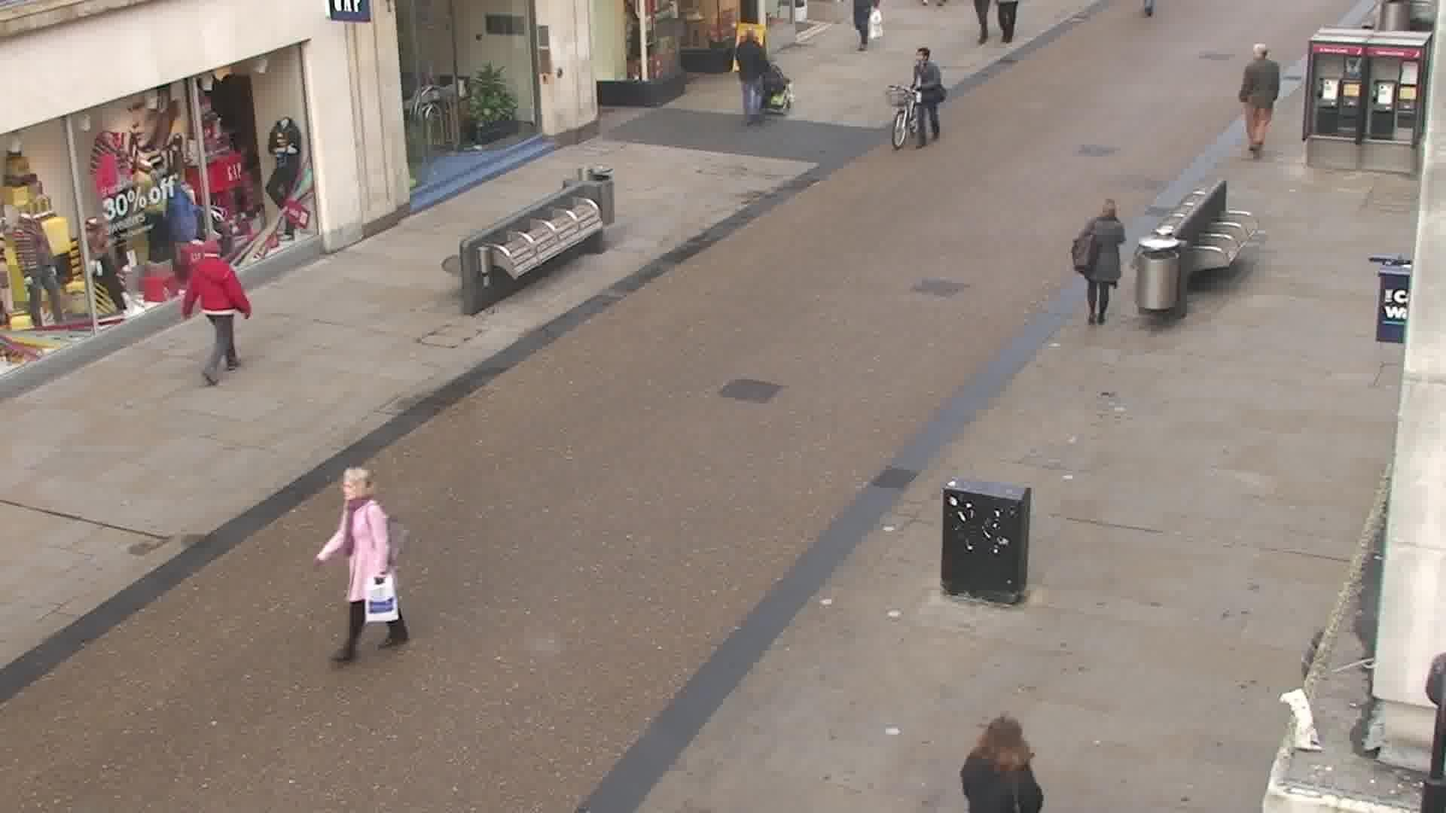car: (455, 174, 612, 316)
